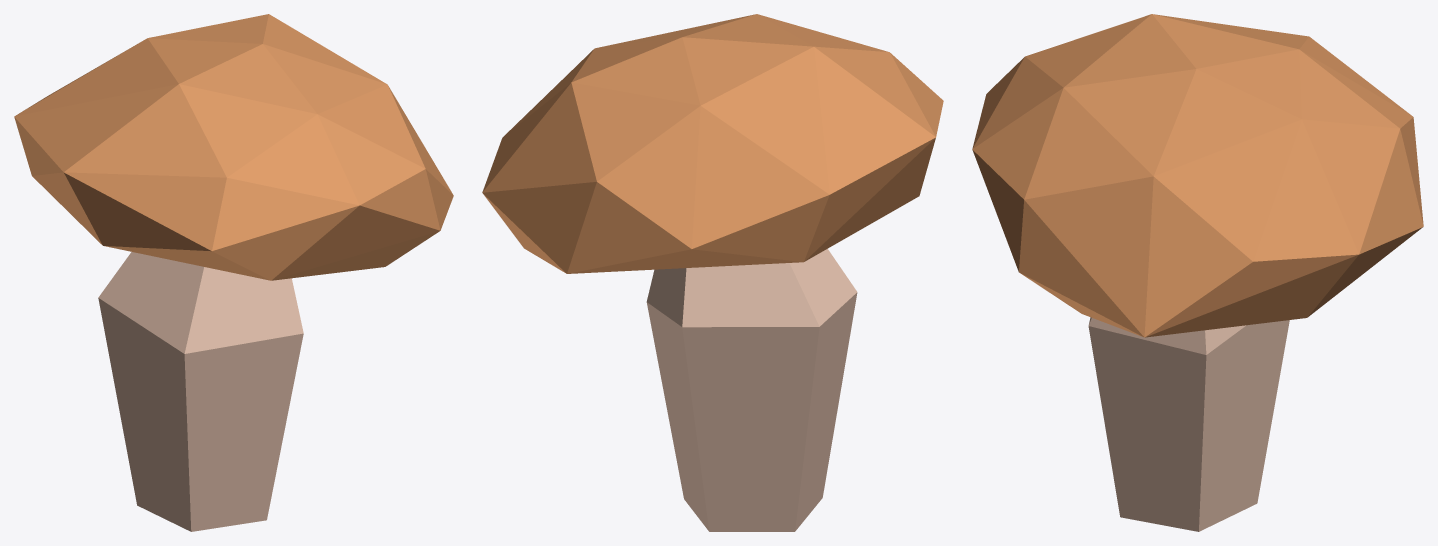
File: Mushroom_f_03.fbx
The picture shows the model from 3 angles, left to right: view 1: azimuth 30°, elevation 25°; view 2: azimuth 150°, elevation 25°; view 3: azimuth 270°, elevation 25°; orthographic projection. The views are drawn at different scales.
Visible parts, largest first — view 1: Mushroom_f_03; view 2: Mushroom_f_03; view 3: Mushroom_f_03.
Boxes of the visible parts, <box> form: Mushroom_f_03: <box>14,14,453,531</box>; Mushroom_f_03: <box>482,14,943,531</box>; Mushroom_f_03: <box>972,14,1423,531</box>.
Size of the model in its own units: 0.2363 by 0.2581 by 0.2266.
